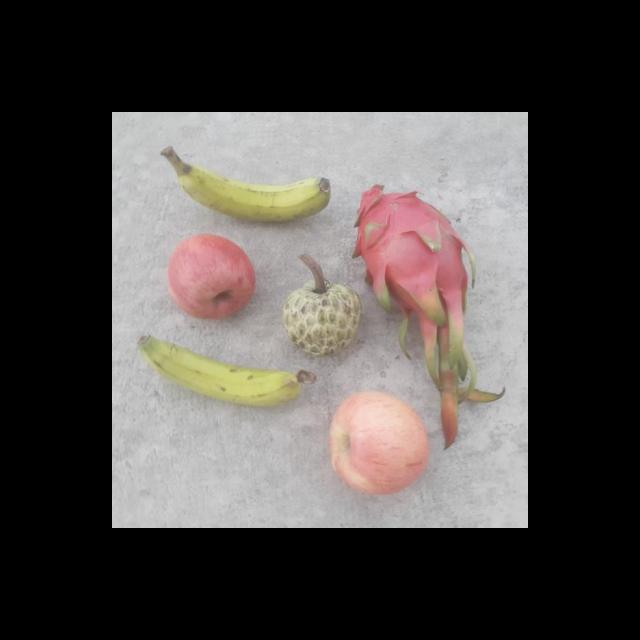Sakya fruit: (277, 278, 363, 363)
apple: (329, 390, 428, 498), (164, 232, 258, 320)
banana: (160, 145, 336, 225), (136, 334, 300, 406)
pitaya: (353, 185, 482, 324)
